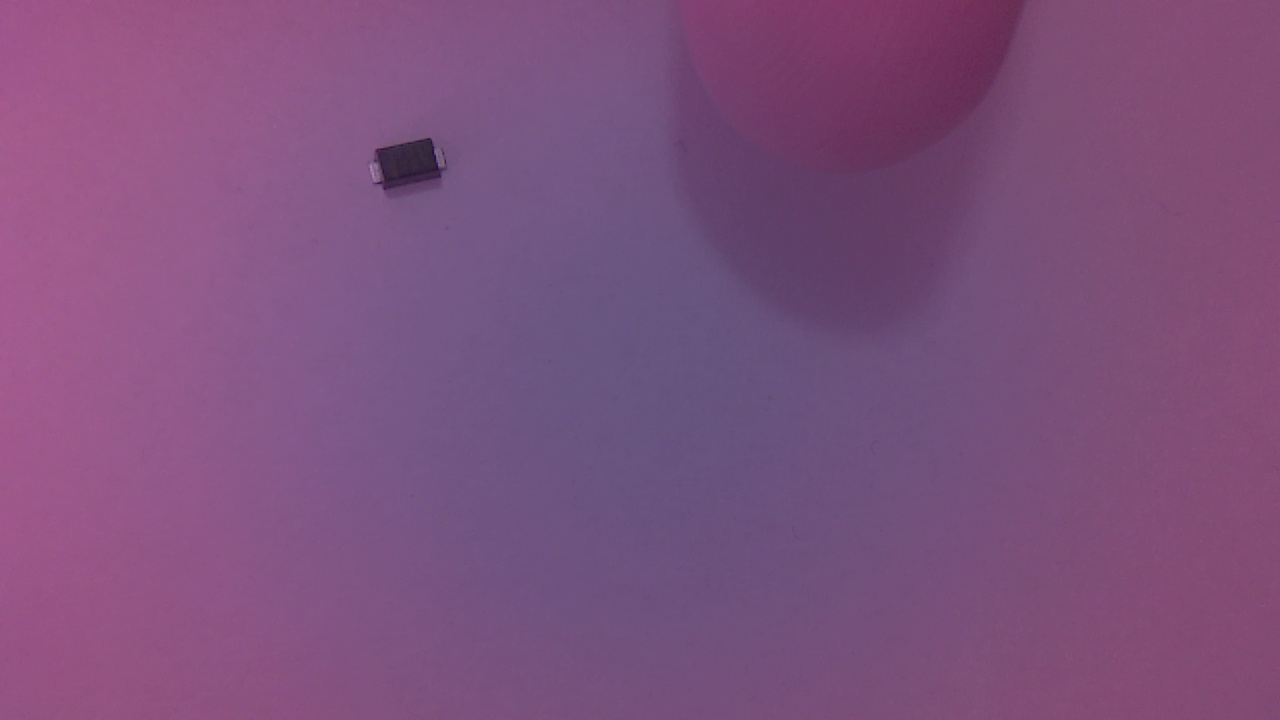Diode: (372, 143, 457, 201)
